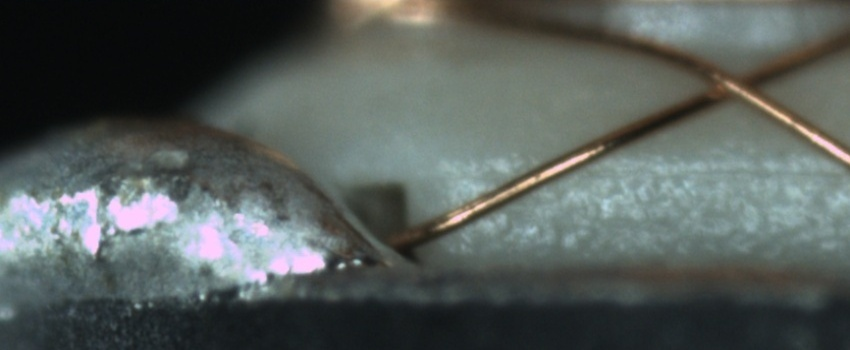CL: (691, 51, 790, 114)
DL: (457, 136, 849, 203)
